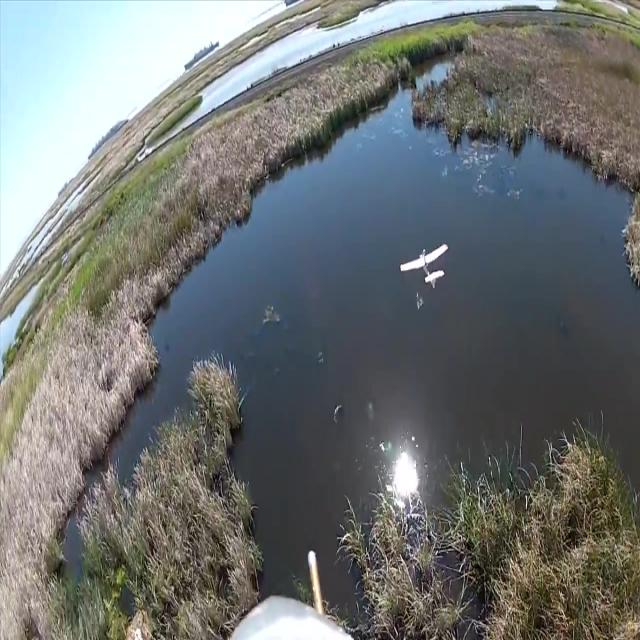iha: (400, 235, 449, 283)
